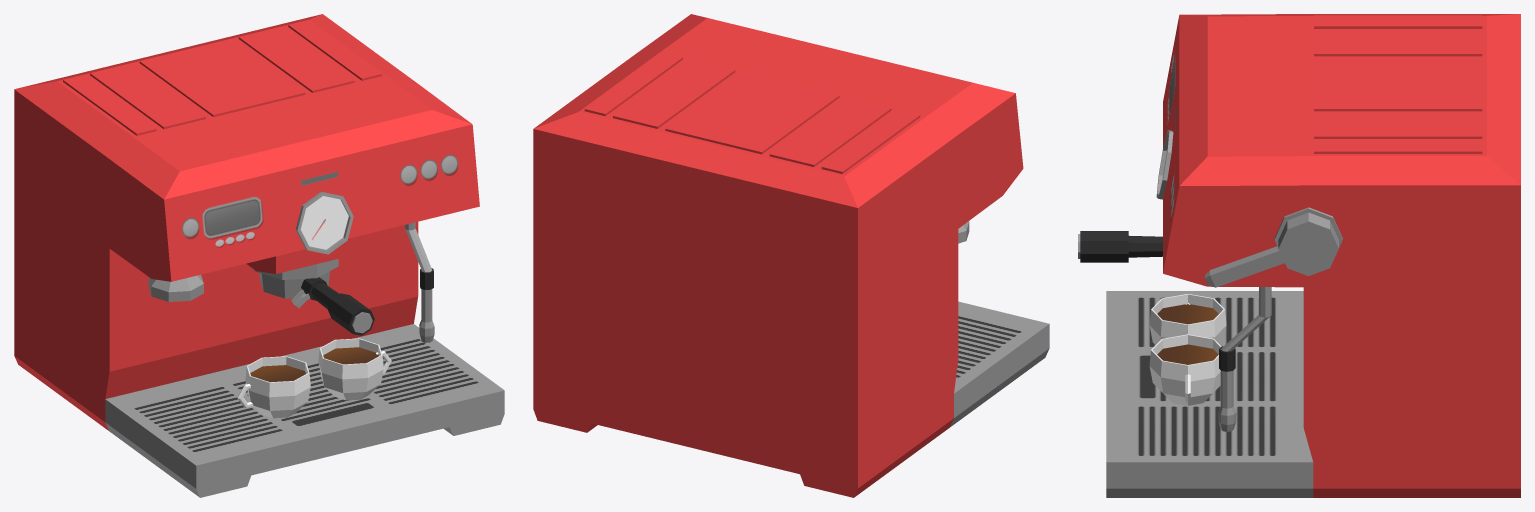
Rendered from coffee_machine.fbx.
3 views of the same model, side by side, from view 1: azimuth 30°, elevation 25°; view 2: azimuth 150°, elevation 25°; view 3: azimuth 270°, elevation 25° (orthographic). The views are drawn at different scales.
Visible parts, largest first — view 1: coffee_machine; view 2: coffee_machine; view 3: coffee_machine.
Part boxes in pixels (x1,y1,x2,y2): coffee_machine: (14, 14, 504, 497); coffee_machine: (533, 14, 1049, 497); coffee_machine: (1078, 14, 1520, 497).
Size of the model in its own units: 0.8116 by 0.688 by 0.8344.
Materials: 1 (1 with a texture image).
